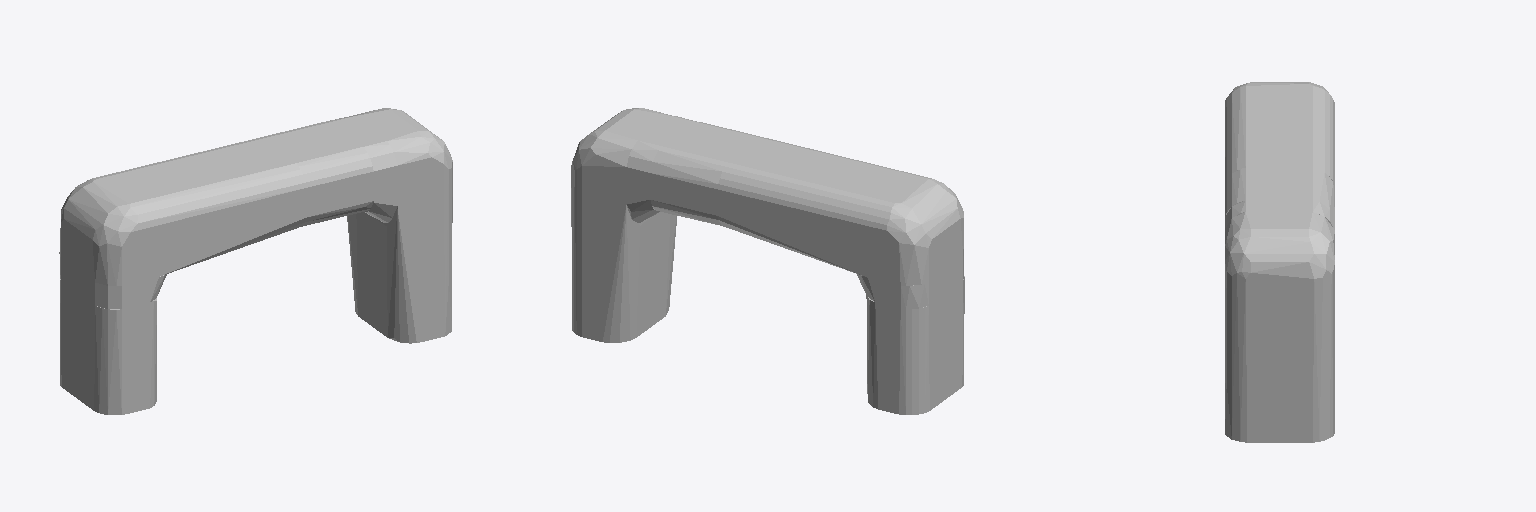
Rendered from switch_link_vhacd2.obj.
3 renders of one model, left to right at view 1: azimuth 30°, elevation 25°; view 2: azimuth 150°, elevation 25°; view 3: azimuth 270°, elevation 25°, orthographic.
Visible parts, largest first — view 1: convex_0, convex_1, convex_2, convex_4, convex_5, convex_3; view 2: convex_0, convex_1, convex_2, convex_4, convex_5, convex_3; view 3: convex_1, convex_0, convex_4, convex_5.
Boxes of the visible parts, box(x1,y1,x2,y2) form: convex_0: box(59, 138, 306, 285); convex_1: box(347, 108, 452, 343); convex_2: box(60, 279, 156, 414); convex_4: box(260, 121, 373, 226); convex_5: box(327, 116, 397, 222); convex_3: box(60, 257, 166, 308); convex_0: box(717, 138, 963, 285); convex_1: box(571, 108, 676, 342); convex_2: box(866, 276, 964, 414); convex_4: box(650, 122, 763, 225); convex_5: box(626, 116, 696, 222); convex_3: box(857, 256, 963, 308); convex_1: box(1225, 212, 1334, 442); convex_0: box(1225, 82, 1334, 184); convex_4: box(1225, 167, 1334, 217); convex_5: box(1225, 200, 1334, 229).
Bounding box in the file's own units: 0.1506 × 0.0807 × 0.0403.